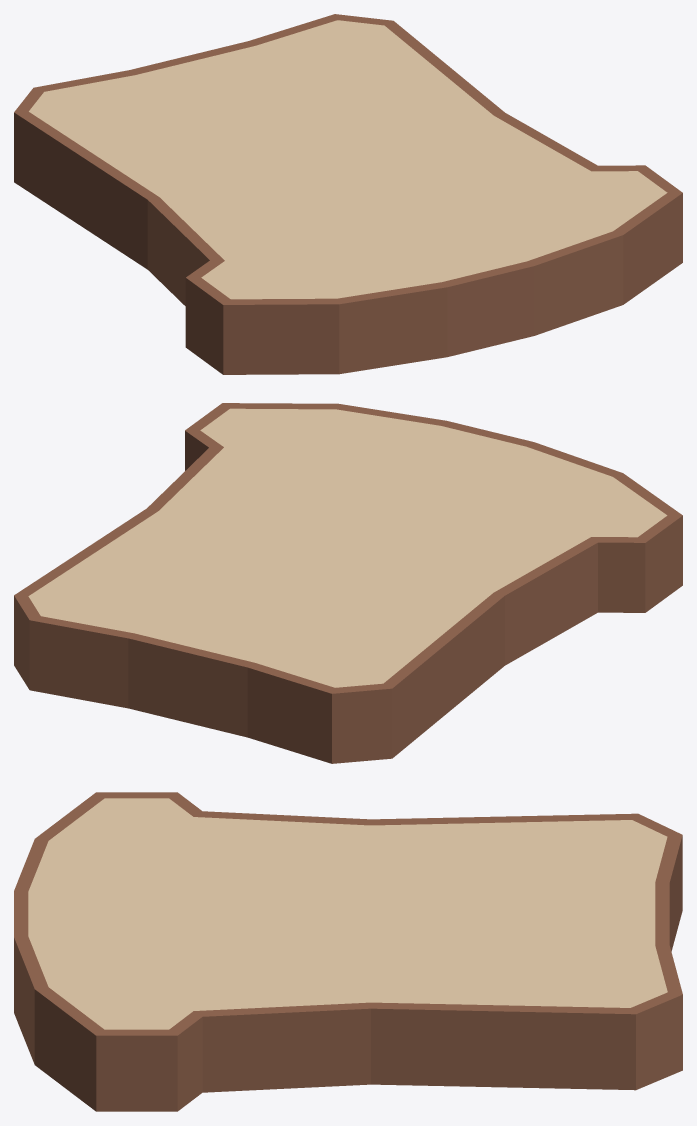
The model's file is Tostada.fbx.
3 views of the same model, one above another, from view 1: azimuth 30°, elevation 25°; view 2: azimuth 150°, elevation 25°; view 3: azimuth 270°, elevation 25° (orthographic). The views are drawn at different scales.
Visible parts, largest first — view 1: Tostada; view 2: Tostada; view 3: Tostada.
Boxes of the visible parts, x1=… form: Tostada: x1=14, y1=14, x2=682, y2=374; Tostada: x1=14, y1=403, x2=682, y2=763; Tostada: x1=14, y1=792, x2=682, y2=1111.
Size of the model in its own units: 16.65 by 2.42 by 19.32.
